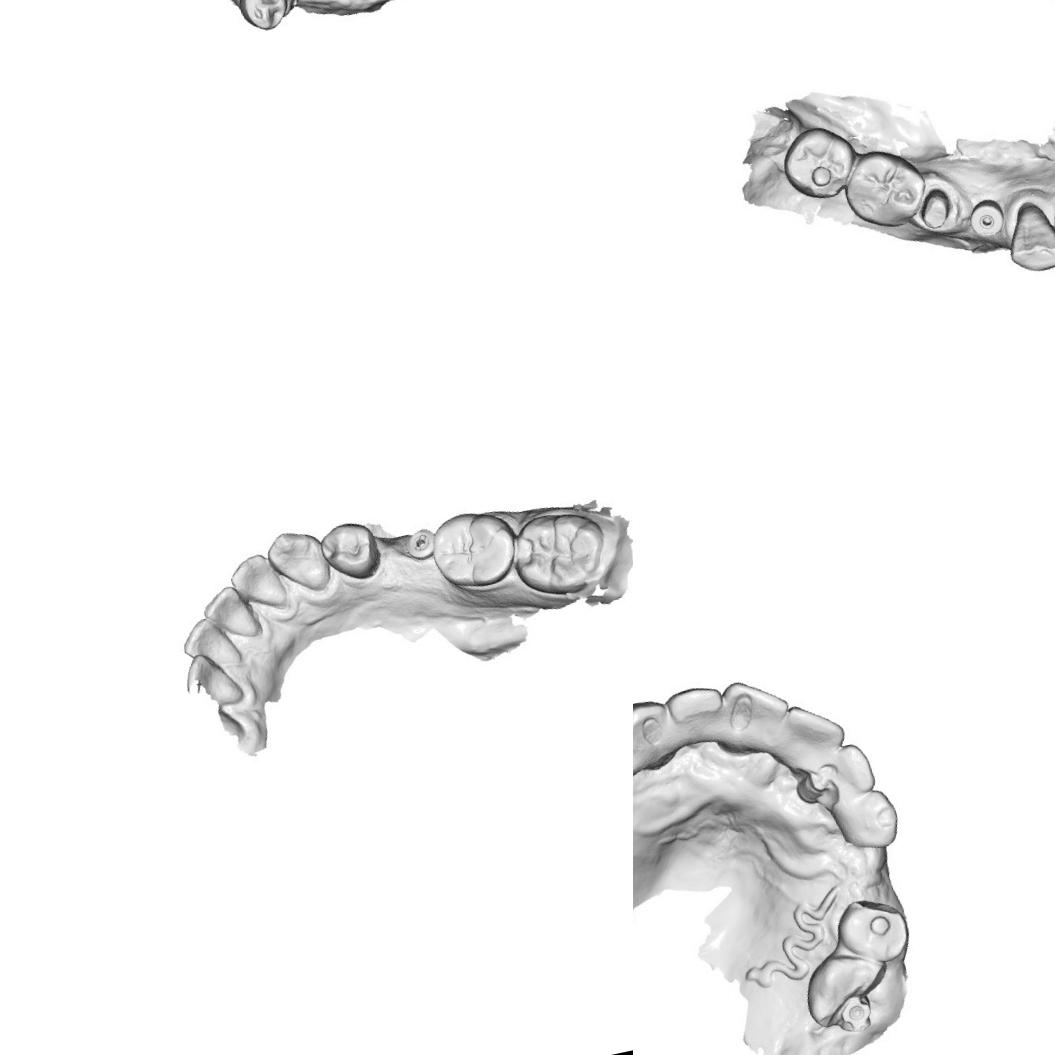canine: (261, 522, 335, 600), (827, 788, 900, 856), (1000, 198, 1055, 284), (633, 696, 676, 772)
crown: (916, 184, 955, 233)
implant: (968, 198, 1006, 243)
implant_minus: (399, 525, 440, 564)
incisor: (714, 675, 796, 761), (665, 680, 734, 755), (771, 702, 842, 774), (174, 608, 247, 678), (224, 548, 289, 619), (199, 579, 264, 650), (820, 744, 875, 798)
molar: (504, 503, 614, 604), (422, 502, 522, 597), (842, 151, 927, 229), (832, 888, 913, 968), (783, 129, 855, 199)
premolar: (316, 513, 386, 590), (233, 0, 297, 35)
